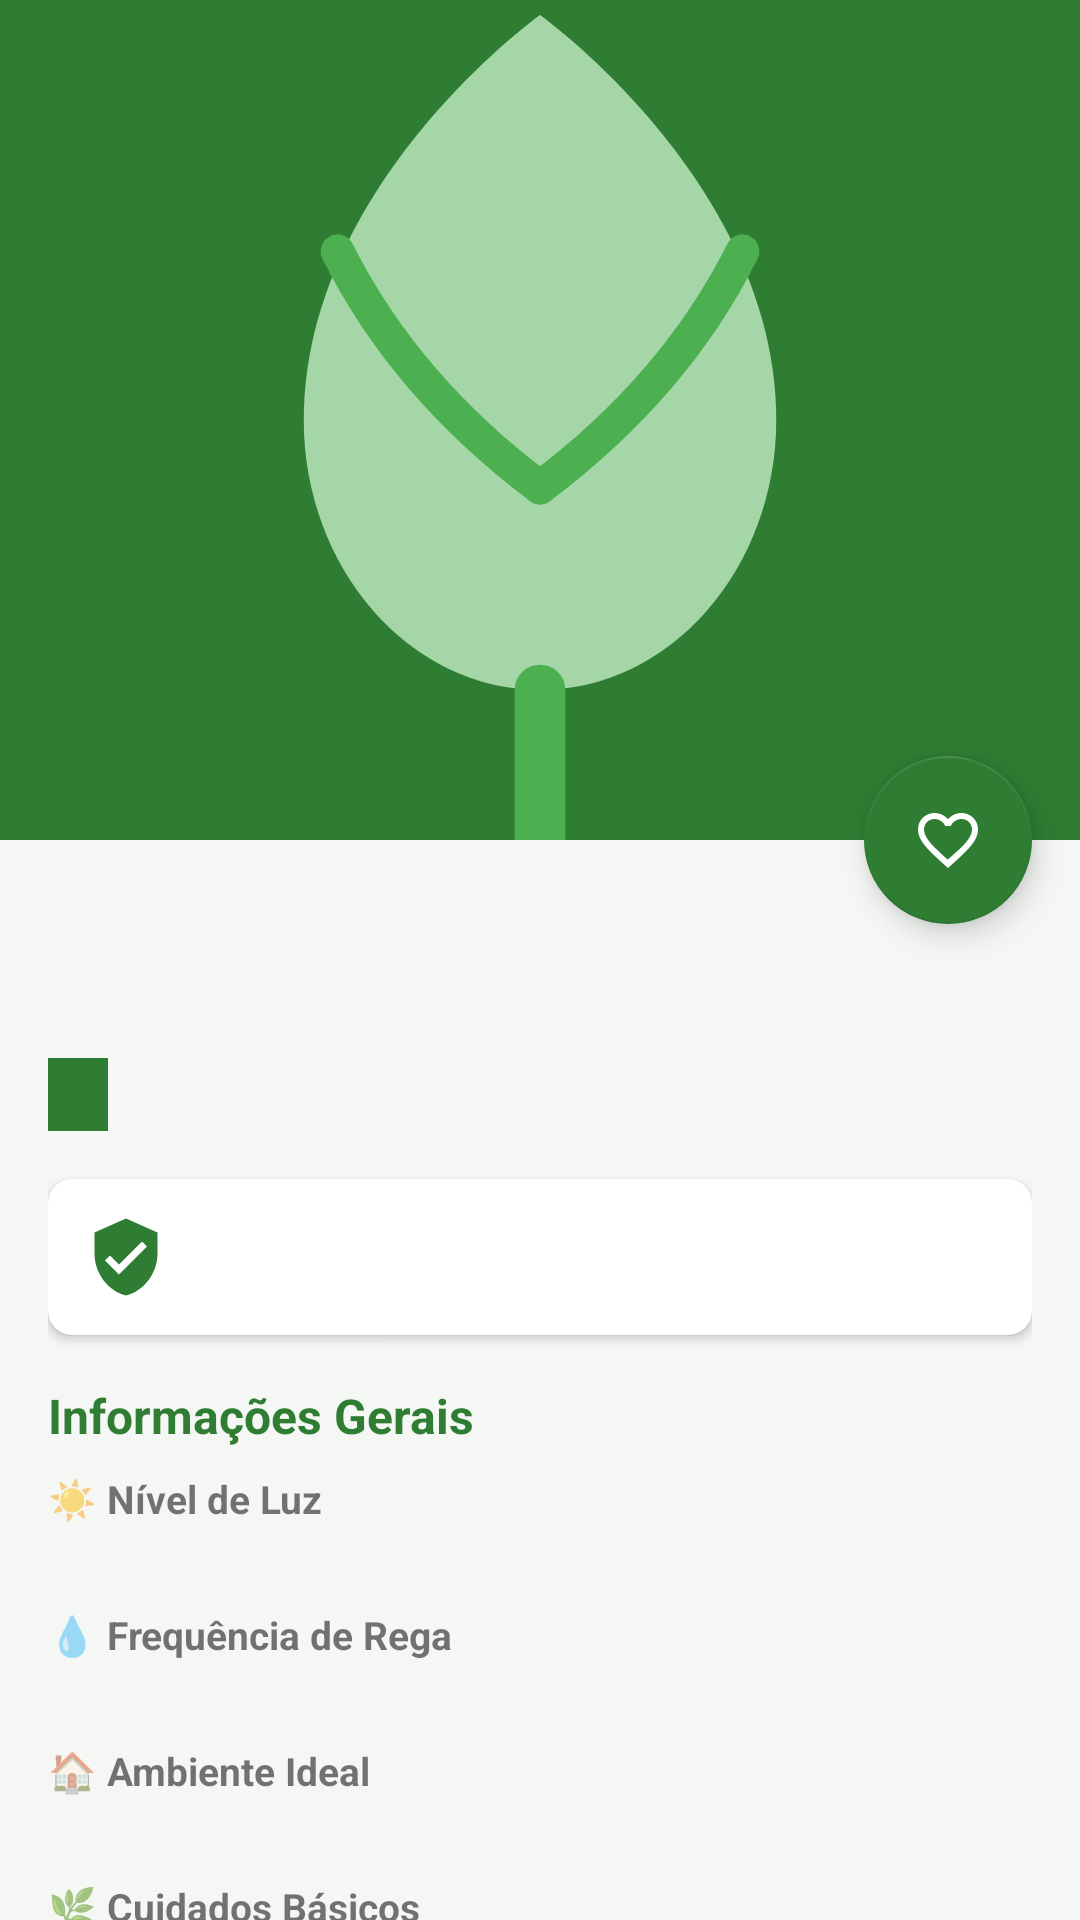

Screen size 1080×1920. Icon name, then its center in pixels as [x,y]:
favorite: [948,840]
safe: [126,1257]
